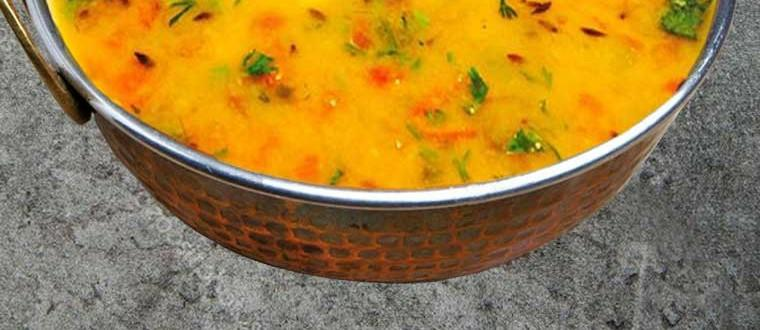Dal: (43, 0, 717, 189)
